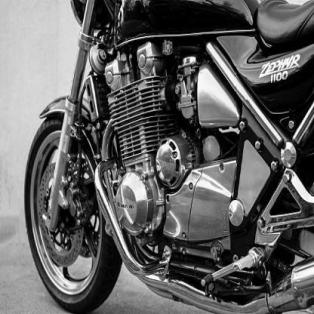Motocicleta: (17, 1, 314, 313)
